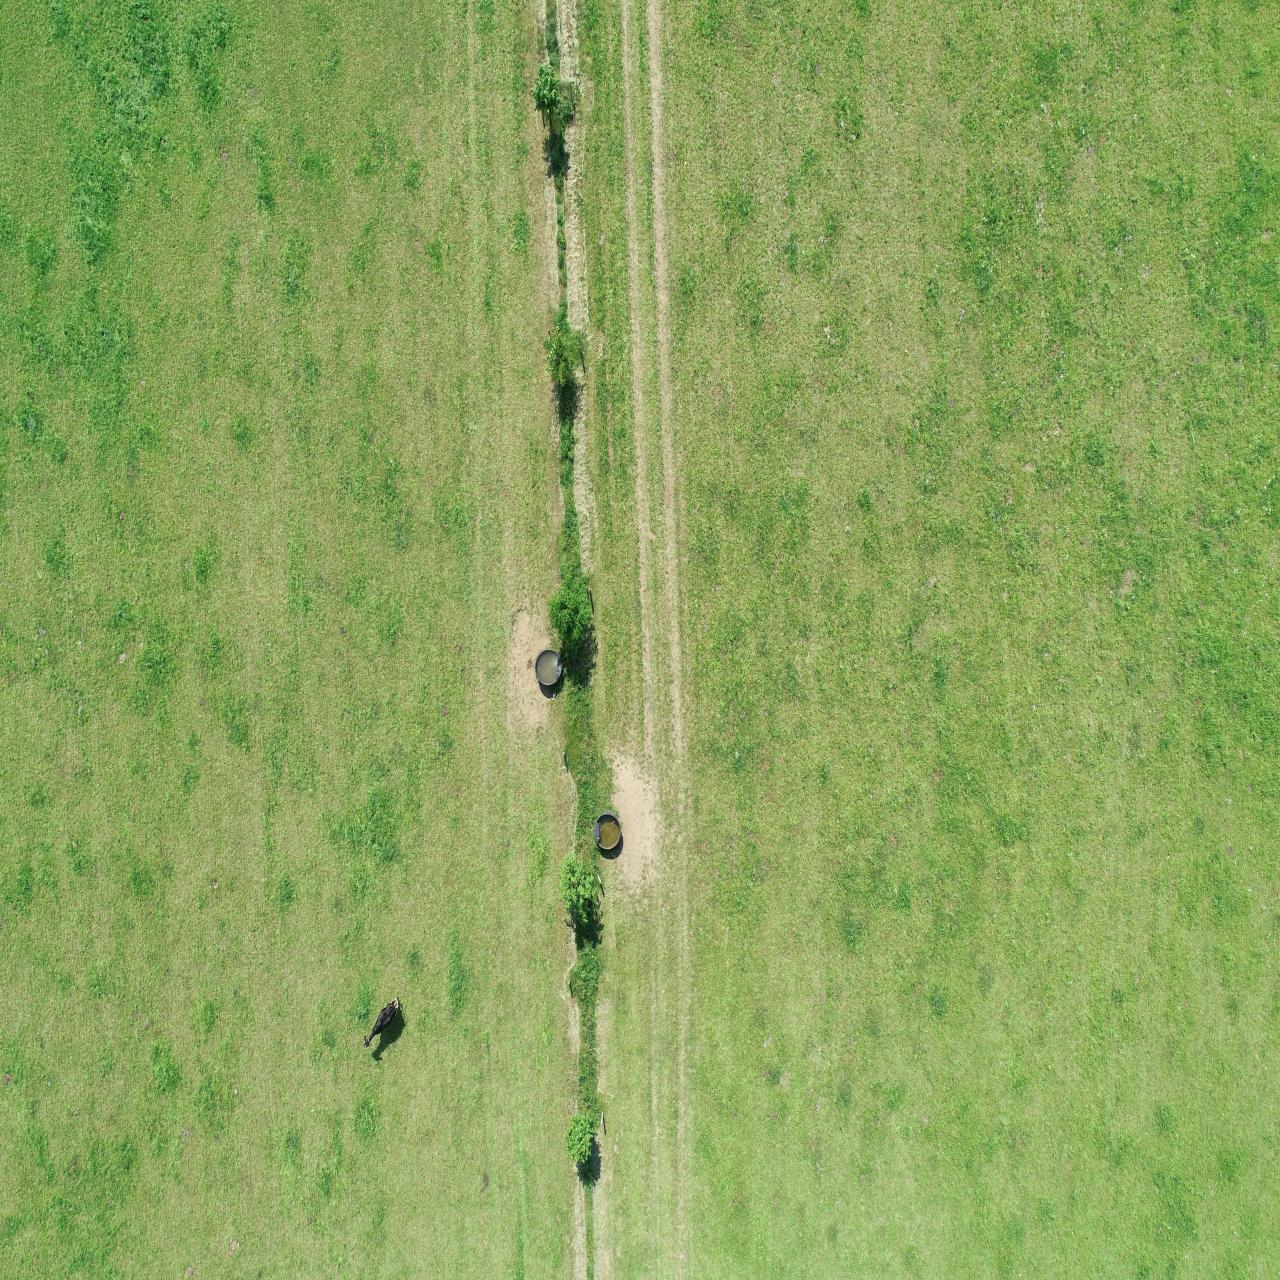cow: (361, 986, 403, 1055)
